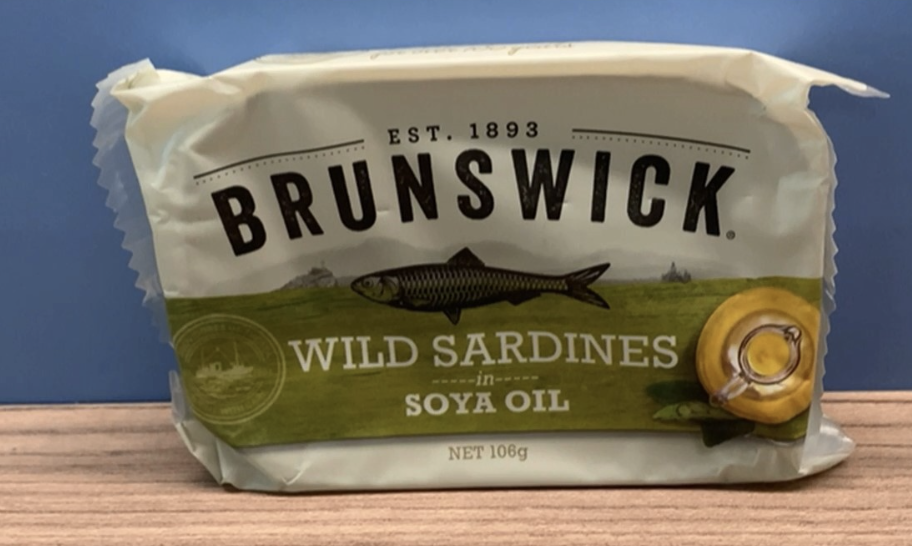sardines_150g: (194, 82, 805, 460)
